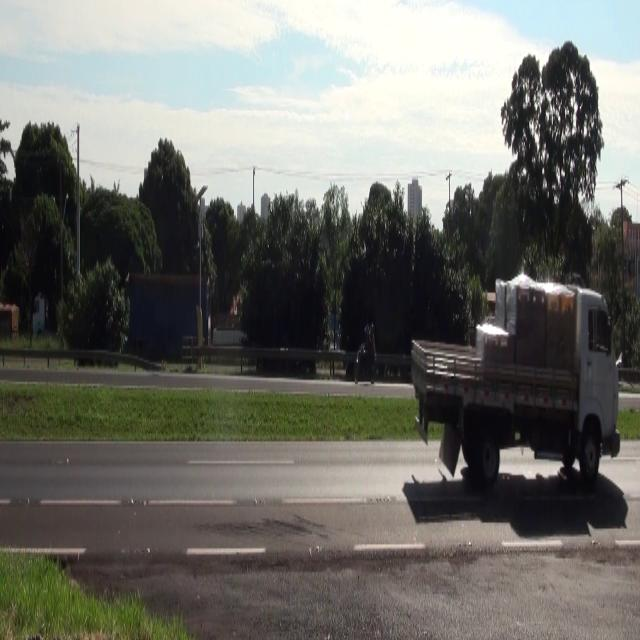-axle: (479, 423, 504, 491), (579, 427, 601, 490)
